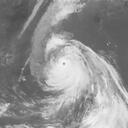cyclone: (36, 39, 103, 105)
